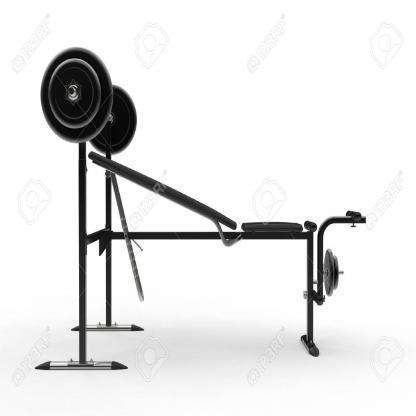Barbell: (67, 78, 81, 104)
